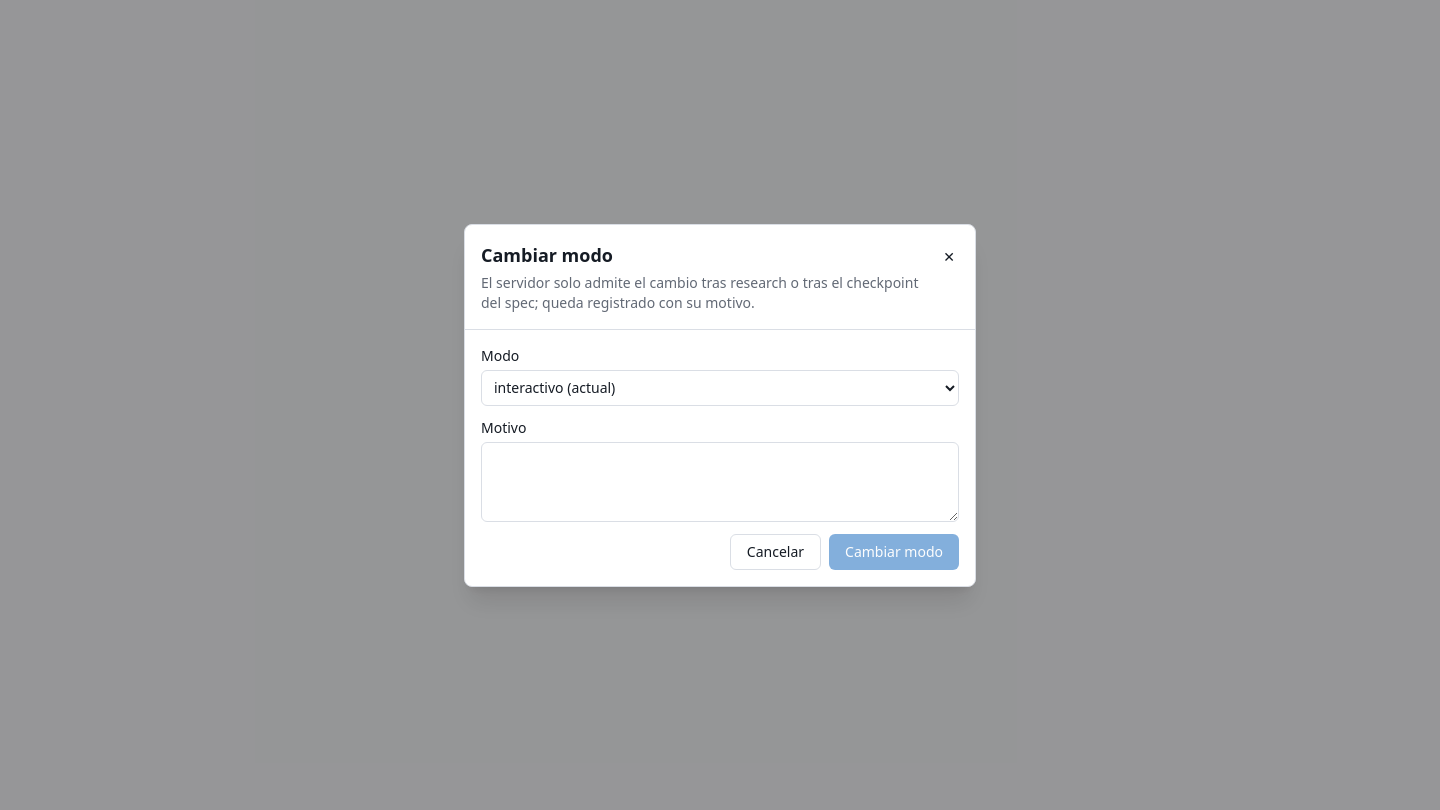
diálogo de cambio de modo › si el servidor rechaza el cambio por el mandato, muestra el motivo
Select "supervisado" in the dropdown labelled "Modo": (720, 388) [481,370,959,406]
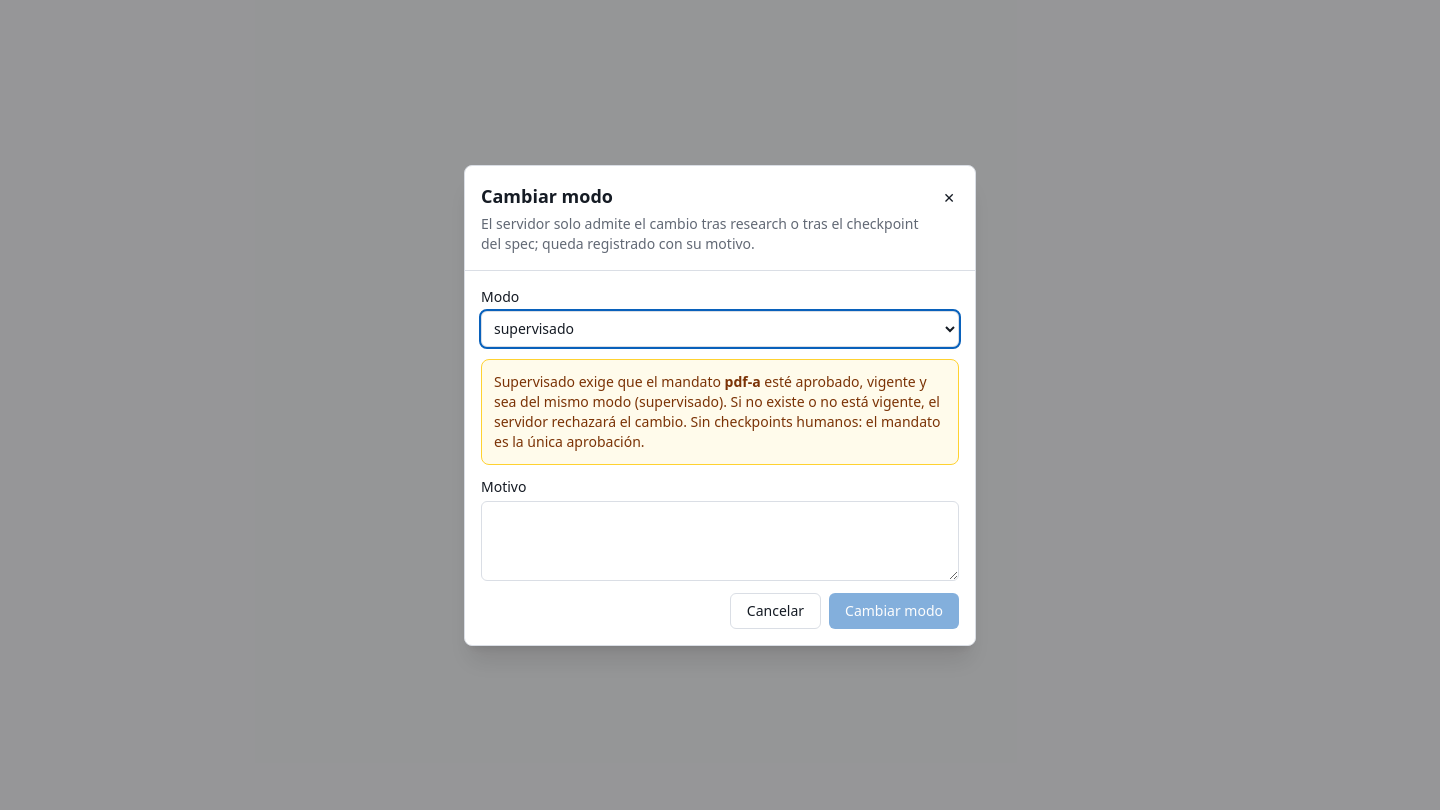
In the text box labelled "Motivo": (720, 540) [481,500,959,580], type "probar"
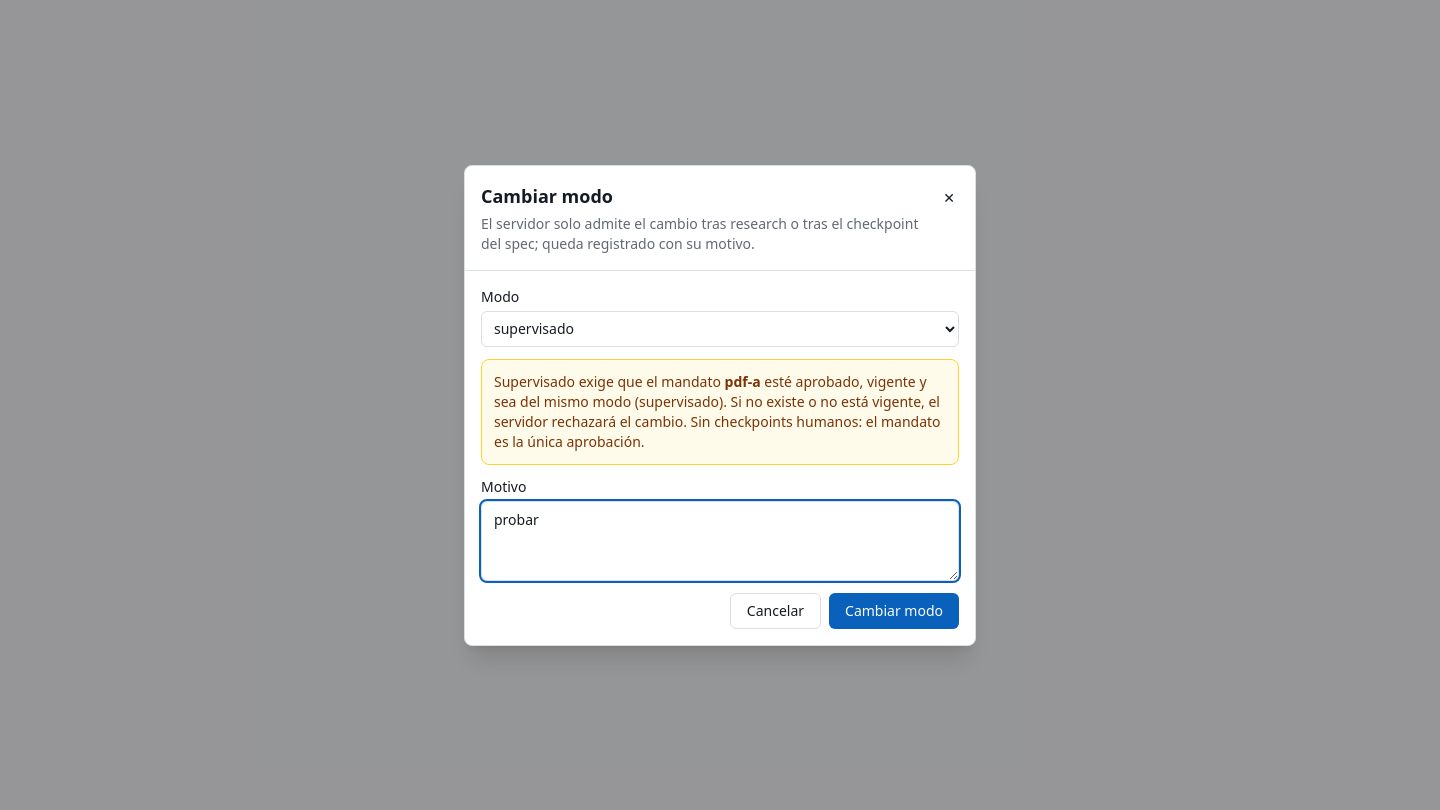
Click the button "Cambiar modo": (894, 610) [829,592,959,628]
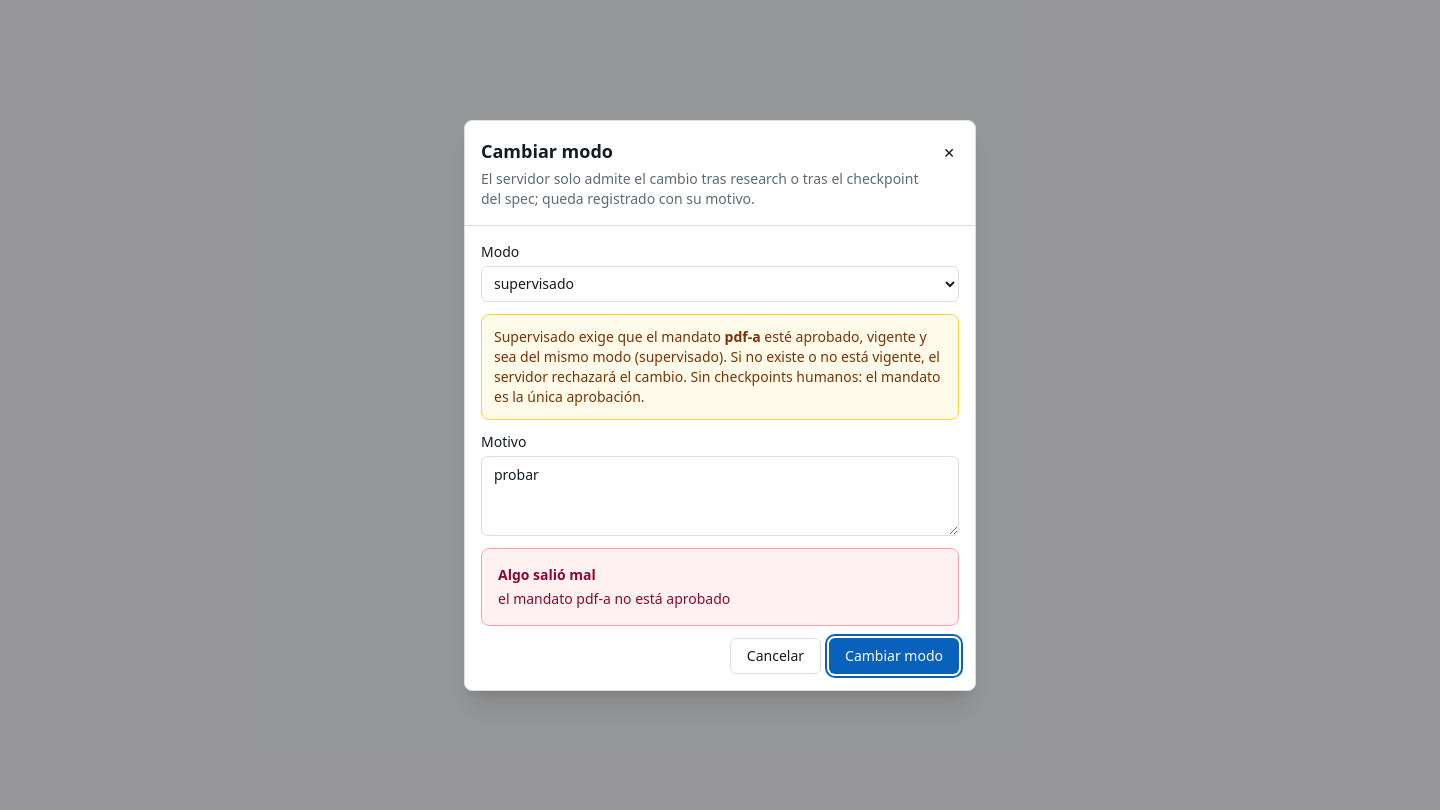
Check: the text "el mandato pdf-a no está aprobado" is shown, box [498,588,730,608]
